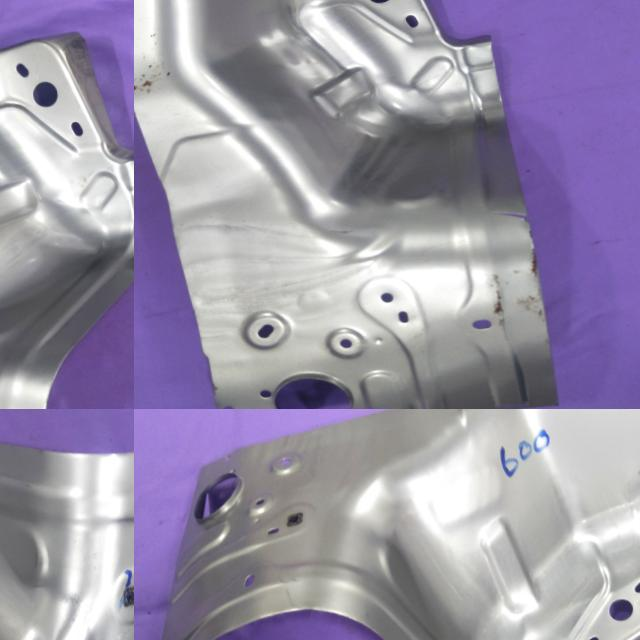Defect: (485, 195, 540, 233)
Healthy: (134, 409, 640, 640), (0, 0, 134, 409), (0, 409, 134, 640)
rust: (486, 232, 560, 334), (134, 17, 202, 123)
